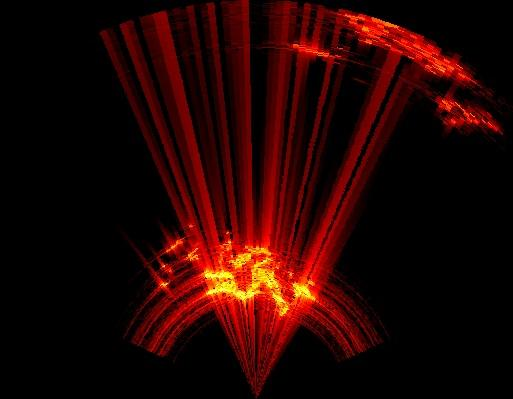shipwreck: (348, 14, 476, 77), (206, 248, 316, 309)
